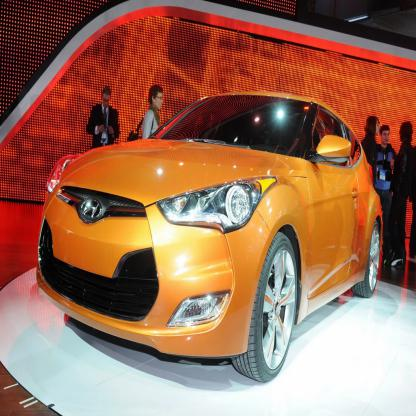Vehicle: (37, 90, 384, 383)
